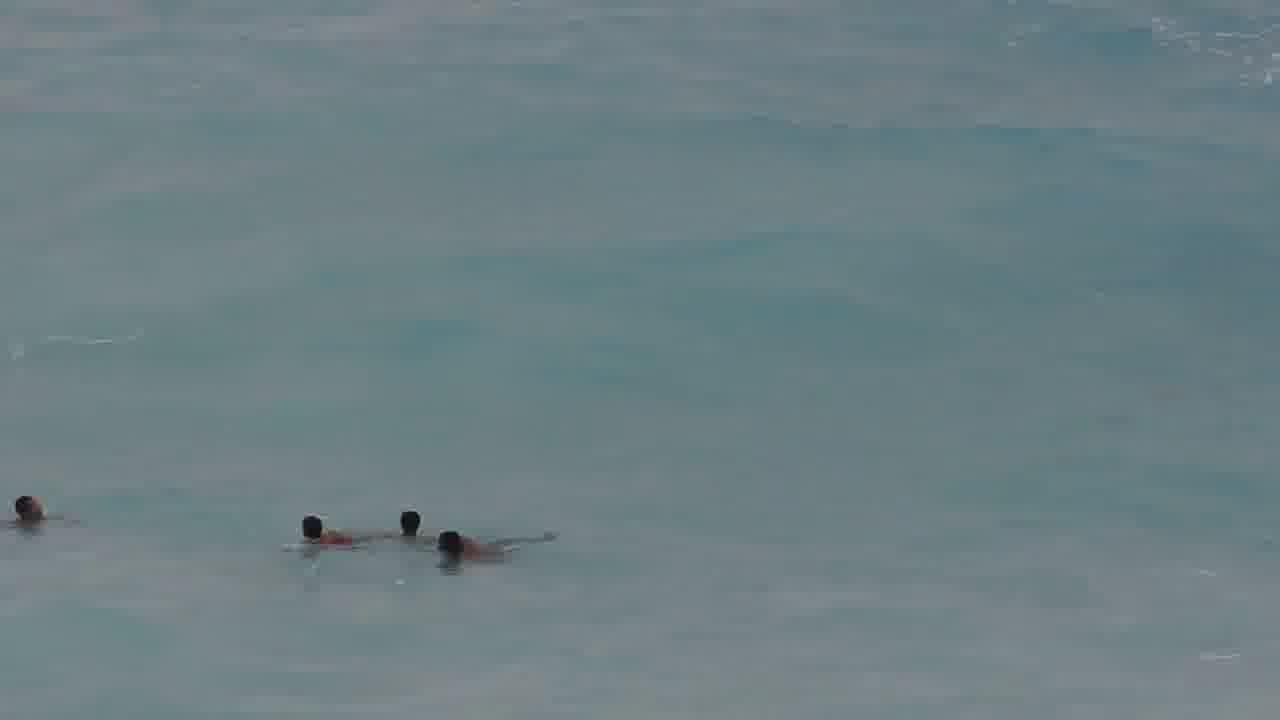swimmer: (433, 528, 559, 568), (290, 508, 370, 552), (0, 488, 70, 533), (380, 507, 435, 544)
